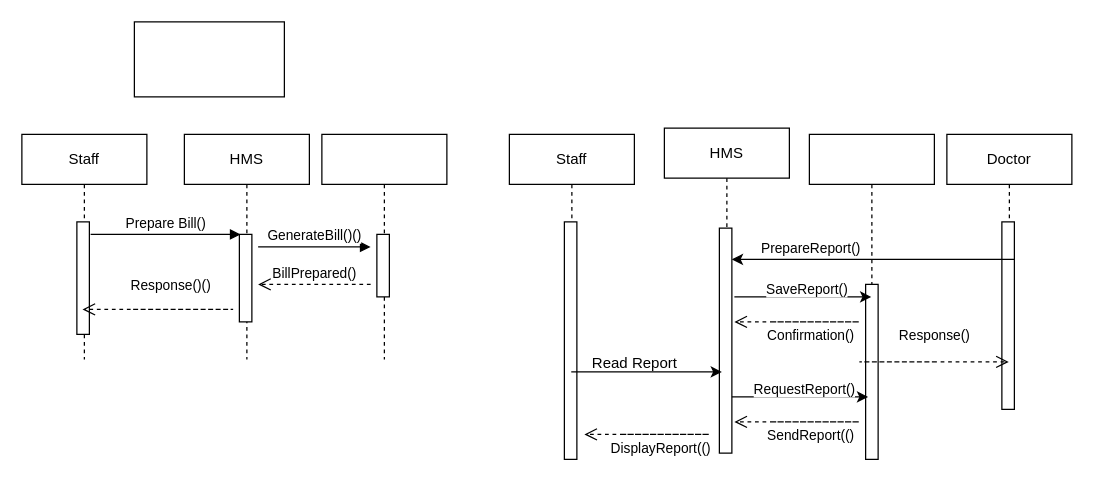
The diagram is 1094 pixels wide and 481 high, and some of its shapes have lost their labels. Each missing label, with the centre of its shape:
"Bill Management" belongs at (384,246).
"Dipesh Shrestha" belongs at (208,59).
"Report Management" belongs at (871,296).
